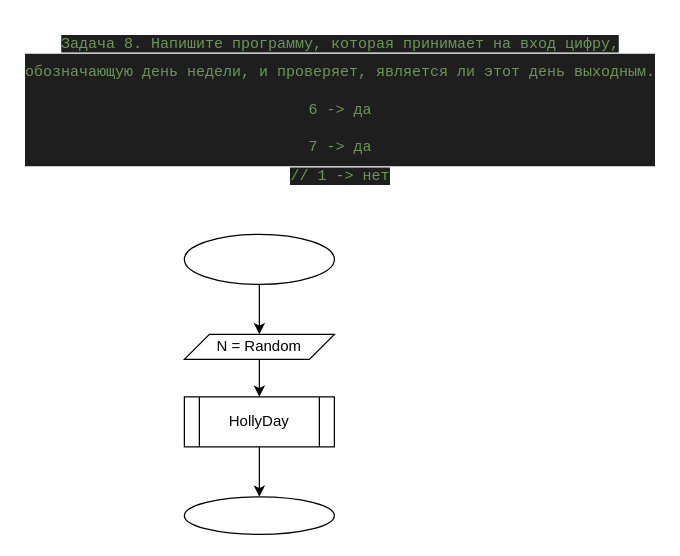
The diagram is 680 pixels wide and 556 high, and some of its shapes have lost their labels. Here are the shapes that lost their labels. From the top down, the box of each, then its label:
(183, 233, 334, 284): Start
(183, 496, 334, 534): End
